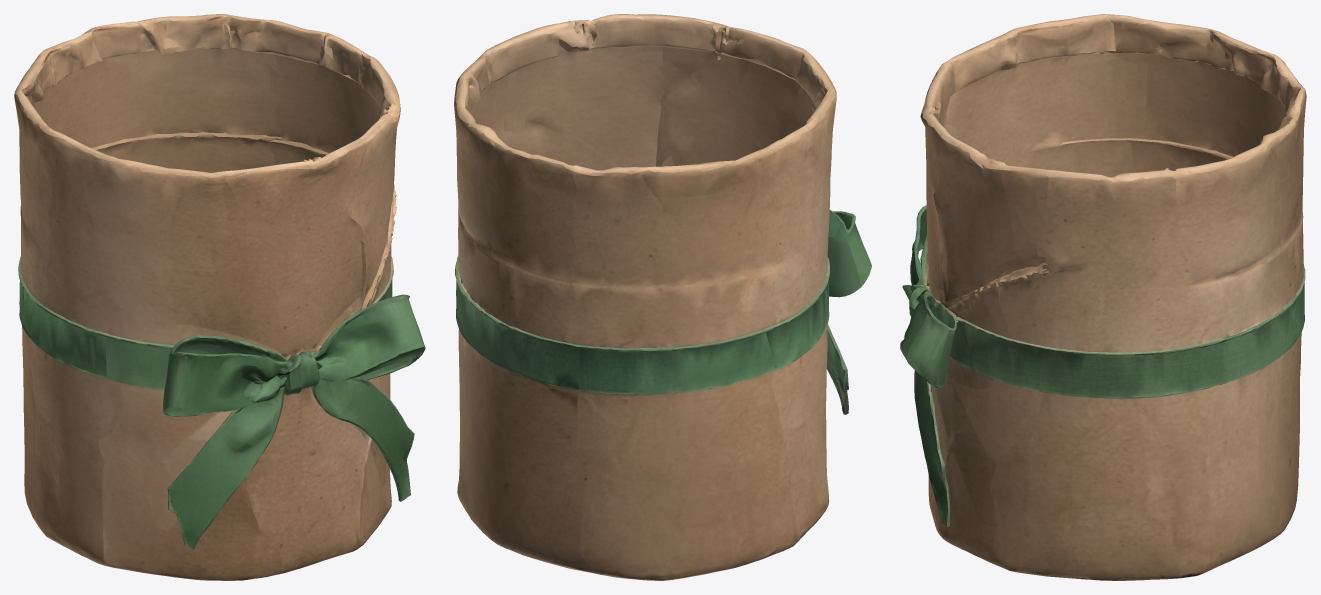
The model's file is kraft-bucket.glb.
3 views of the same model, side by side, from view 1: azimuth 30°, elevation 25°; view 2: azimuth 150°, elevation 25°; view 3: azimuth 270°, elevation 25° (orthographic).
Parts seen in each view (by area): view 1: geometry_0; view 2: geometry_0; view 3: geometry_0.
Boxes of the visible parts, x1,y1,x2,y2 form: geometry_0: (14, 14, 425, 580); geometry_0: (454, 14, 871, 580); geometry_0: (900, 14, 1306, 580).
Size of the model in its own units: 0.0789 by 0.095 by 0.0839.
Materials: 1 (1 with a texture image).
